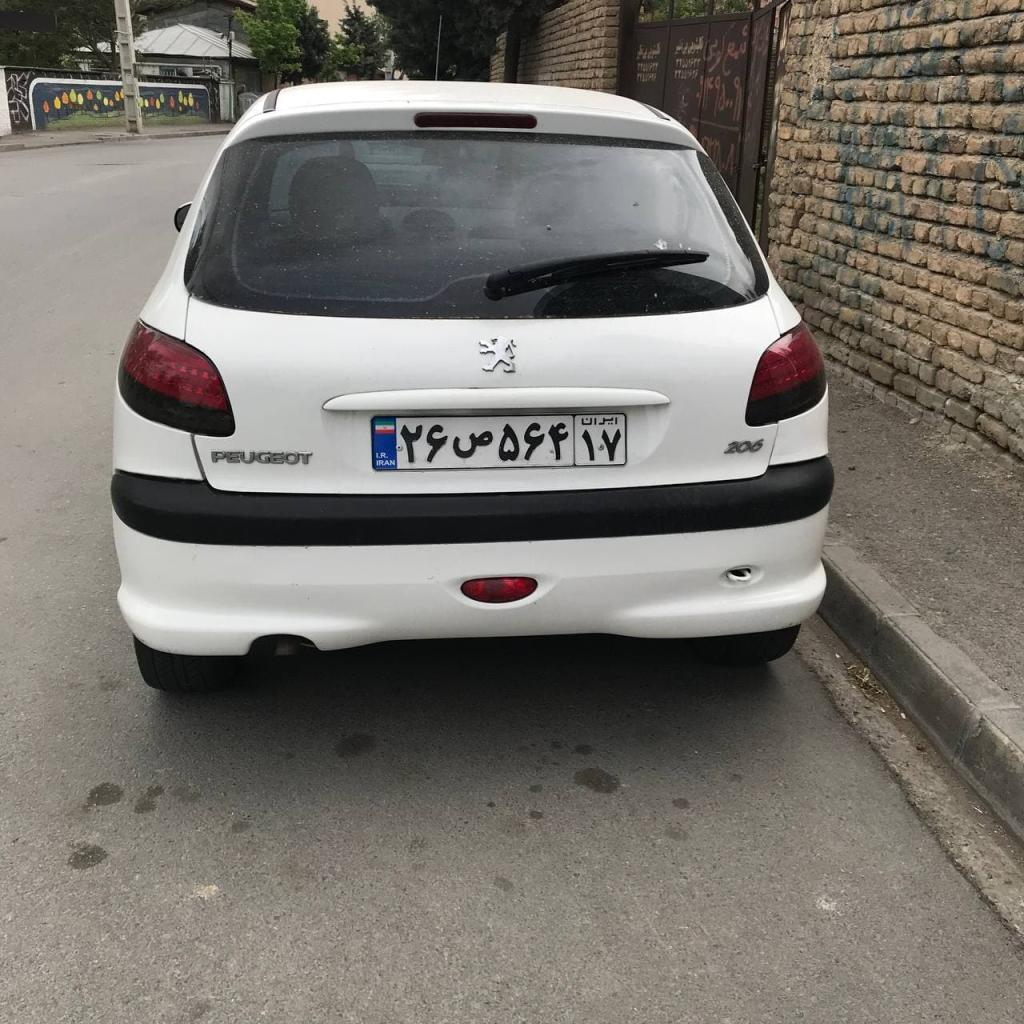Plates: (372, 414, 625, 469)
